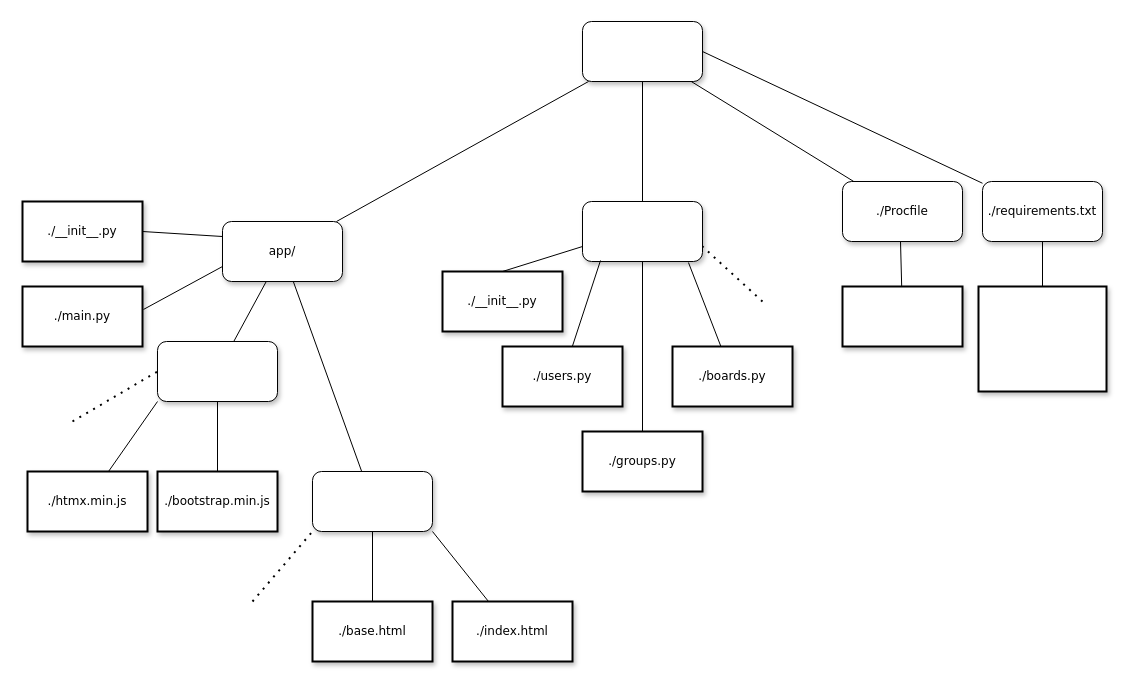
The diagram is 1130 pixels wide and 687 high, and some of its shapes have lost their labels. Here are the shapes that lost their labels. From the top down, the centre of each, then its label:
point (643, 52): src/
point (643, 232): tables/
point (903, 317): web: gunicorn --chdir app main:app
point (1043, 340): Flask Flask_SQLAlchemy gunicorn pymysql cryptography python-dotenv
point (218, 372): ./static
point (373, 502): ./templates
